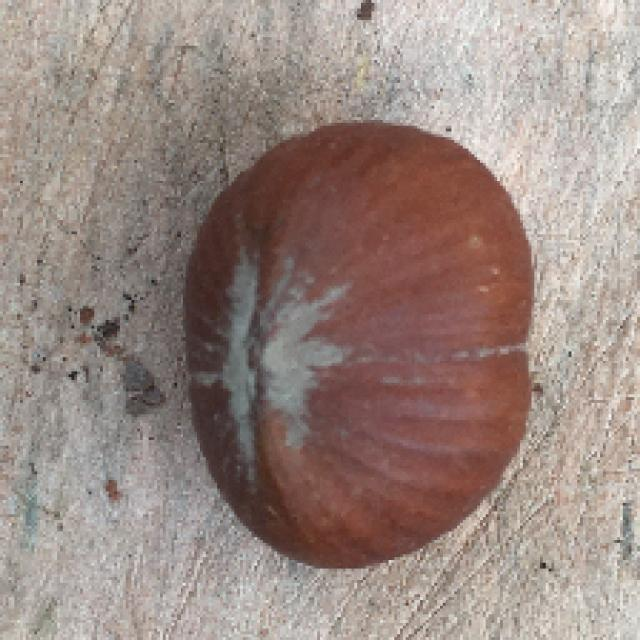qualityHazelnut: (182, 119, 540, 563)
